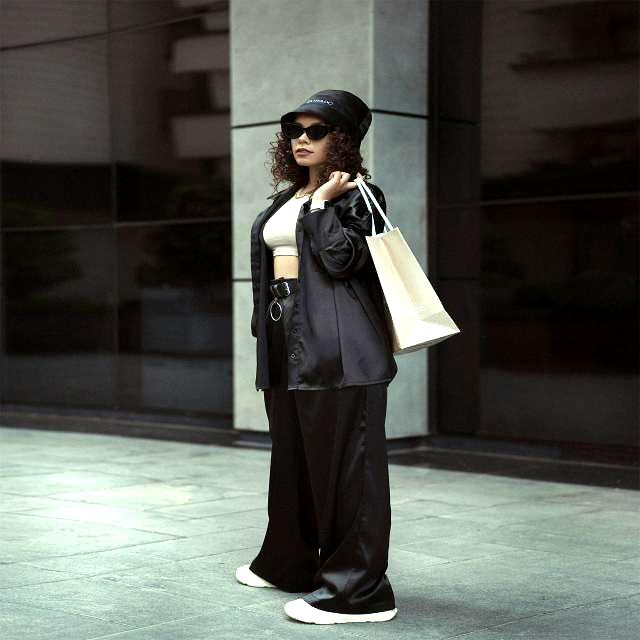no_hard_hat: (281, 89, 372, 146)
person: (236, 90, 454, 624)
